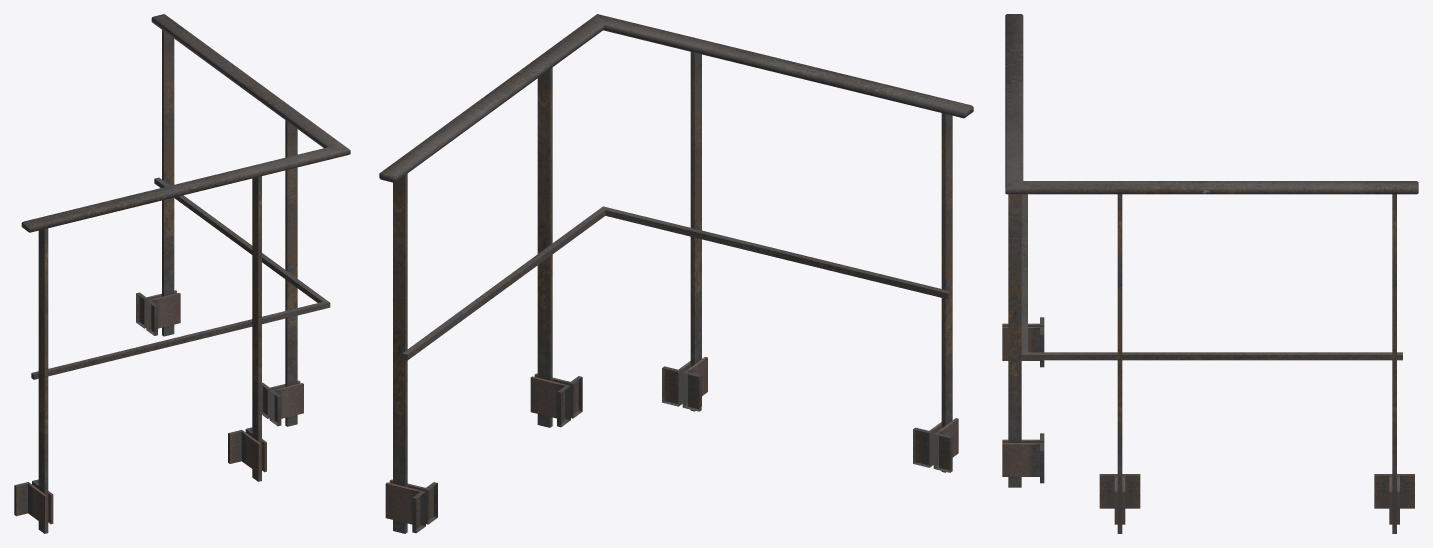
The model's file is railing_corner_64b.glb.
3 renders of one model, left to right at view 1: azimuth 30°, elevation 25°; view 2: azimuth 150°, elevation 25°; view 3: azimuth 270°, elevation 25°, orthographic. The views are drawn at different scales.
Visible parts, largest first — view 1: railing_corner_64b; view 2: railing_corner_64b; view 3: railing_corner_64b.
Boxes of the visible parts, x1,y1,x2,y2 form: railing_corner_64b: (14,14,350,533); railing_corner_64b: (379,14,973,533); railing_corner_64b: (1002,14,1418,533).
Size of the model in its own units: 1.31 by 1.21 by 1.31.
1 material, 1 textured.
